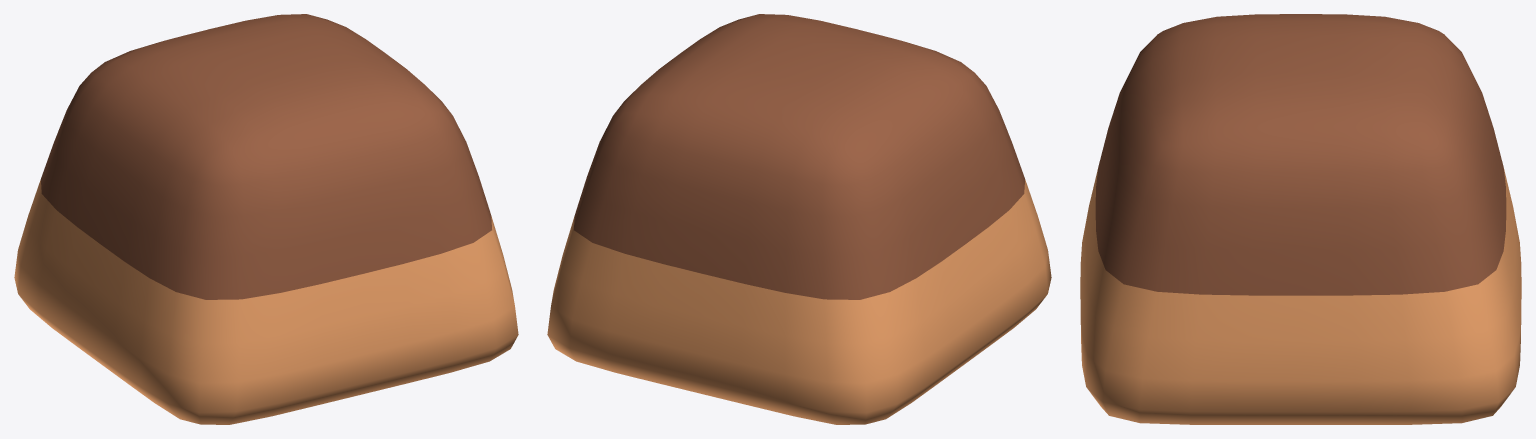
File: Pudding_B_01.fbx
3 views of the same model, side by side, from view 1: azimuth 30°, elevation 25°; view 2: azimuth 150°, elevation 25°; view 3: azimuth 270°, elevation 25° (orthographic). The views are drawn at different scales.
Visible parts, largest first — view 1: Pudding_B_01_LOD0; view 2: Pudding_B_01_LOD0; view 3: Pudding_B_01_LOD0.
Boxes of the visible parts, x1,y1,x2,y2 form: Pudding_B_01_LOD0: (14,14,518,424); Pudding_B_01_LOD0: (547,14,1051,424); Pudding_B_01_LOD0: (1080,14,1521,424).
Size of what is drawn, in the model's own units: 464 by 342 by 464.
